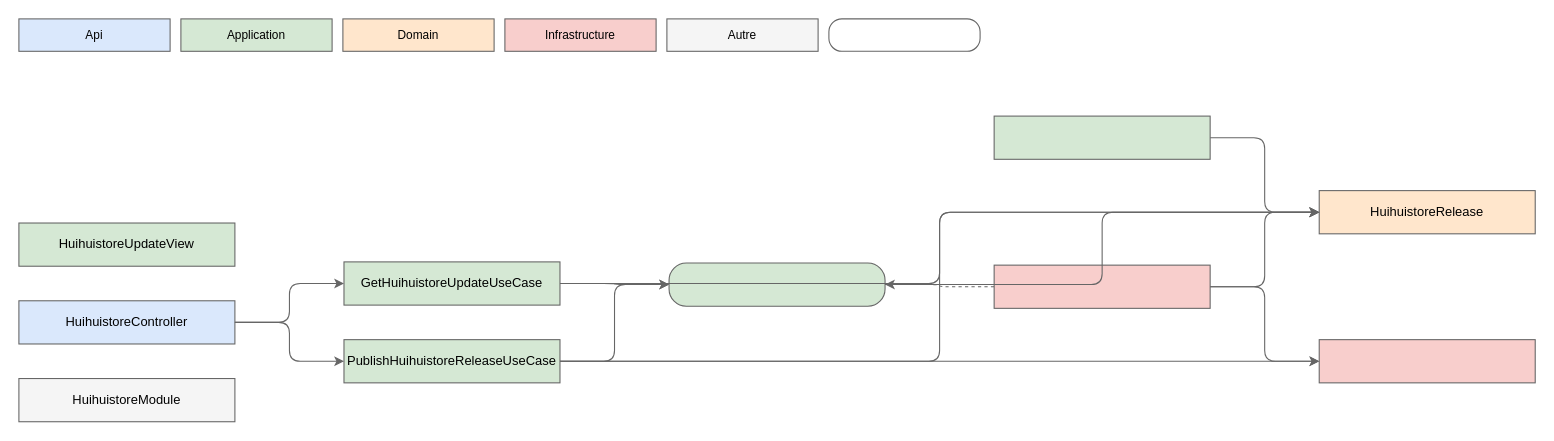
This 1554x441 diagram has some shape labels left out. Each missing label, with the box of its shape:
FileSystemHuihuistoreReleaseStore: (993, 264, 1210, 308)
HuihuistoreOptions: (1318, 339, 1535, 383)
HuihuistorePublishRules: (993, 115, 1210, 159)
IHuihuistoreReleaseStore: (668, 262, 885, 306)
Port (interface): (828, 18, 980, 51)
